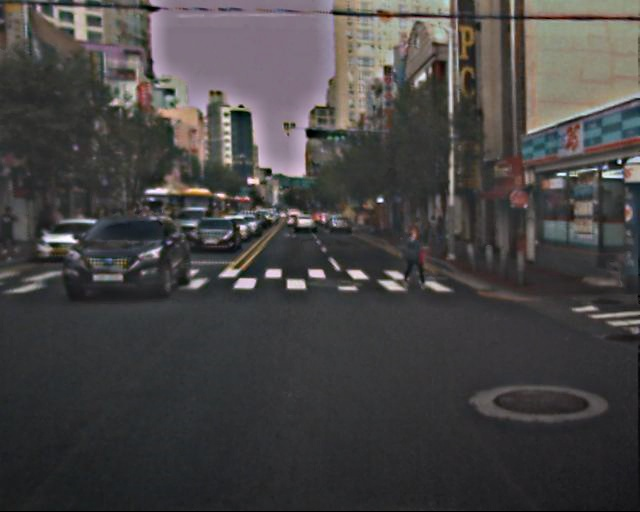person: (398, 223, 431, 290), (418, 219, 446, 244)
